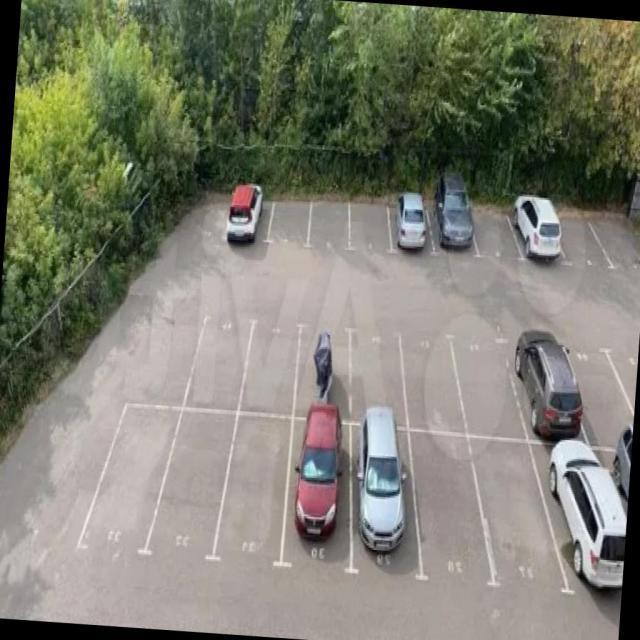space-empty: (467, 434, 567, 604), (402, 429, 488, 592), (91, 404, 178, 560), (217, 412, 296, 576), (158, 407, 236, 567), (455, 321, 529, 437), (566, 329, 634, 444), (402, 320, 464, 429), (345, 319, 408, 425), (192, 306, 252, 408), (243, 311, 302, 411), (552, 194, 614, 283), (468, 191, 530, 273), (592, 194, 640, 294), (345, 195, 393, 269), (309, 191, 357, 254), (269, 196, 313, 250)
space-occupied: (529, 438, 627, 618), (343, 421, 418, 590), (282, 416, 354, 580), (507, 324, 589, 446), (292, 319, 352, 419), (512, 192, 572, 280), (422, 189, 478, 271), (224, 186, 275, 253), (388, 194, 435, 264)
